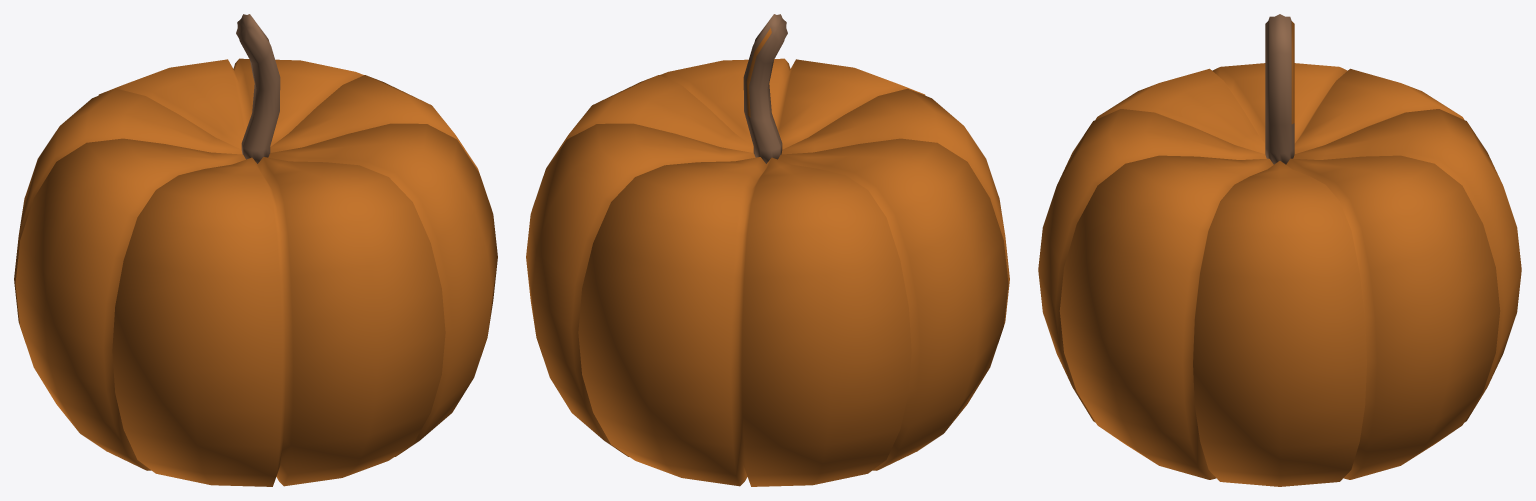
The model's file is pumpkin.fbx.
3 views of the same model, side by side, from view 1: azimuth 30°, elevation 25°; view 2: azimuth 150°, elevation 25°; view 3: azimuth 270°, elevation 25° (orthographic).
Visible parts, largest first — view 1: Pumpkin; view 2: Pumpkin; view 3: Pumpkin.
Part boxes in pixels (x1,y1,x2,y2): Pumpkin: [14, 14, 497, 486]; Pumpkin: [526, 14, 1009, 486]; Pumpkin: [1038, 14, 1521, 486].
Bounding box in the file's own units: 6658 × 6236 × 6658.
